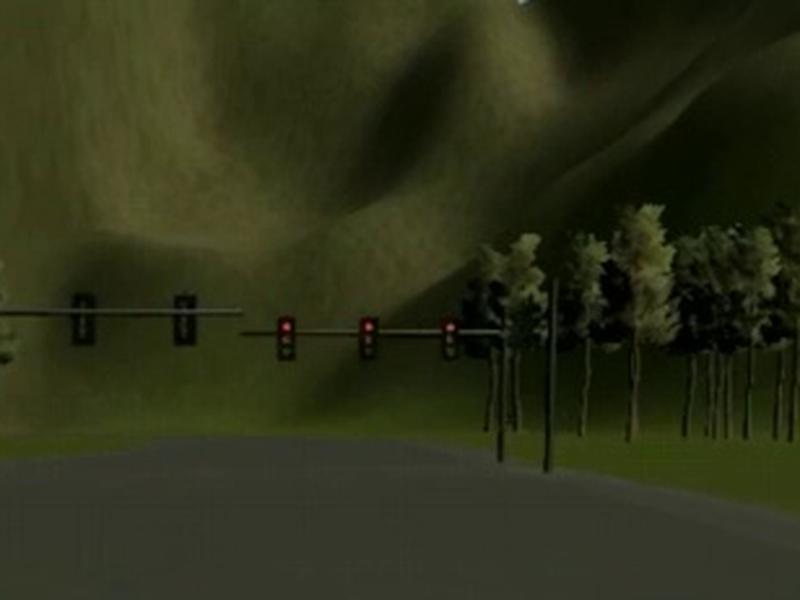Red: (357, 316, 378, 359), (278, 316, 295, 362), (441, 319, 459, 359)
